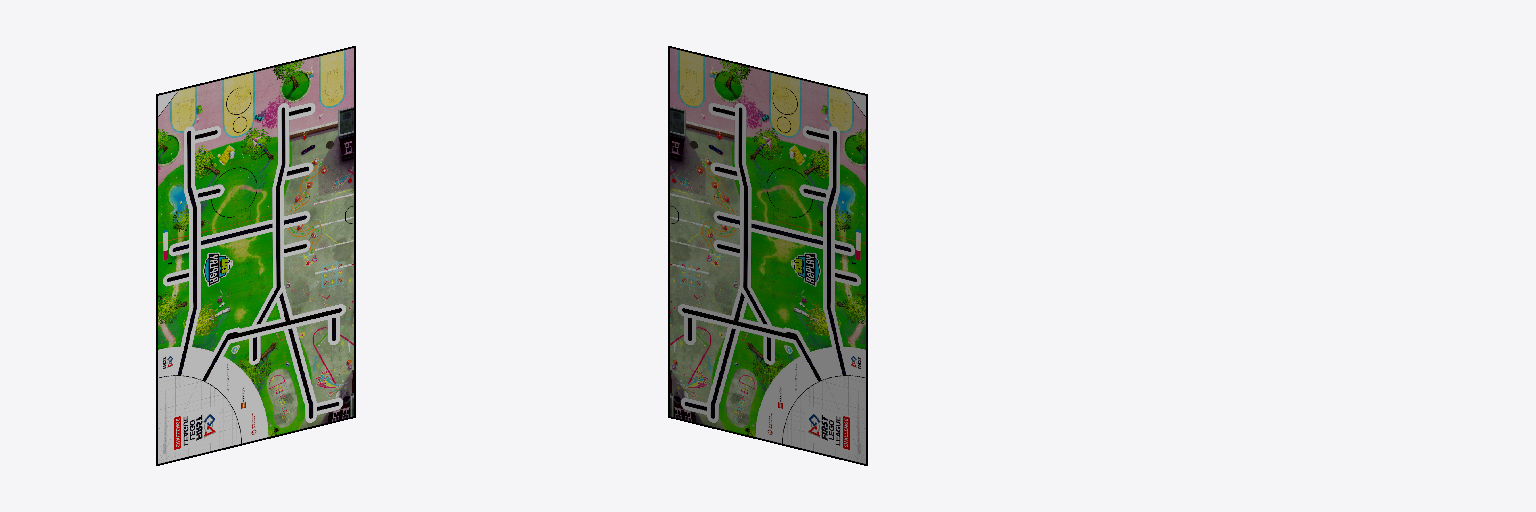
3 renders of one model, left to right at view 1: azimuth 30°, elevation 25°; view 2: azimuth 150°, elevation 25°; view 3: azimuth 270°, elevation 25°, orthographic.
Visible parts, largest first — view 1: Plane; view 2: Plane; view 3: none.
Part boxes in pixels (x1,y1,x2,y2): Plane: (156, 46, 355, 465); Plane: (668, 46, 867, 465).
Bounding box in the file's own units: 1.14 × 2.03 × 0.
1 materials, 1 textured.